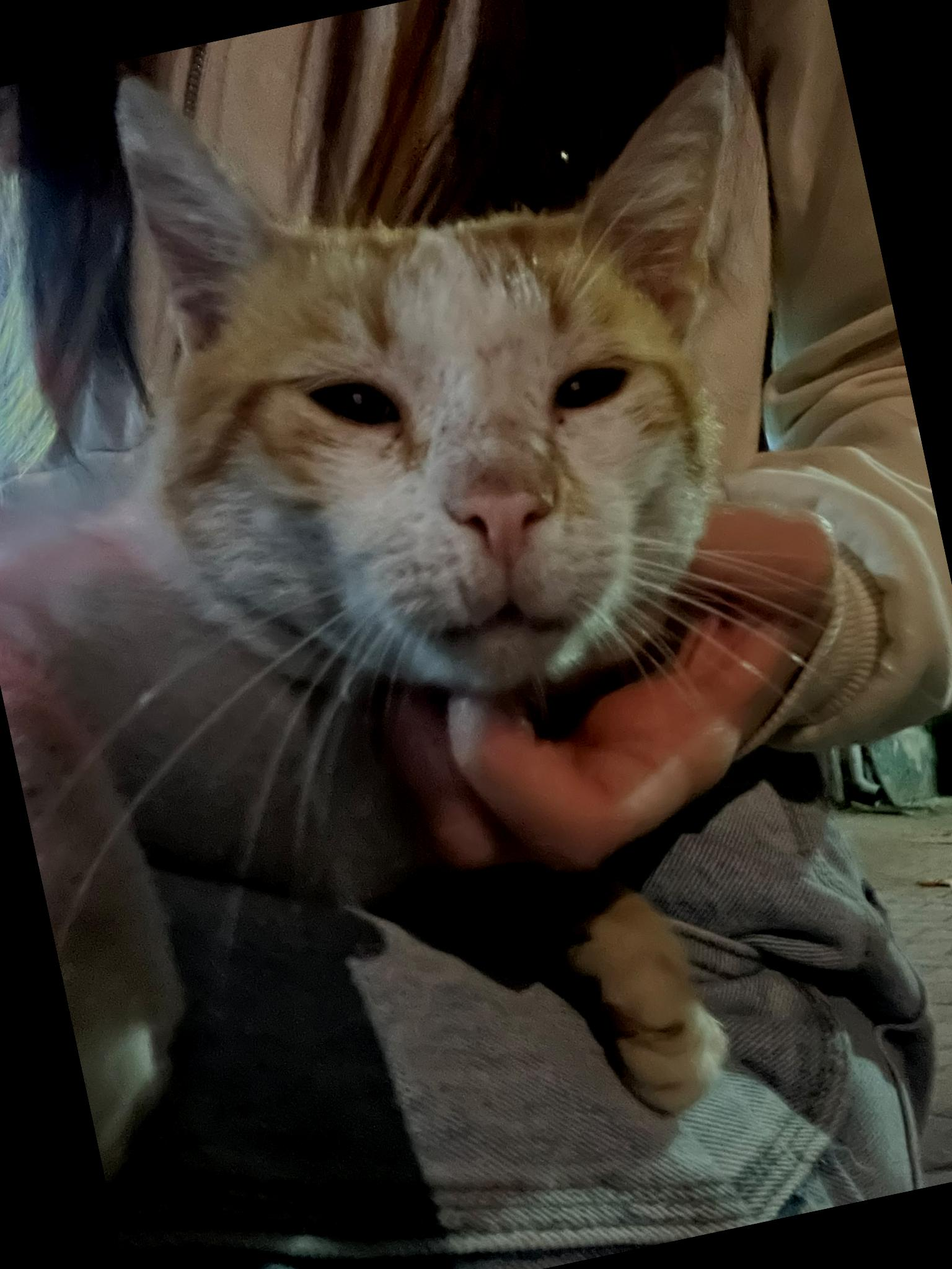macka: (0, 0, 950, 1232)
